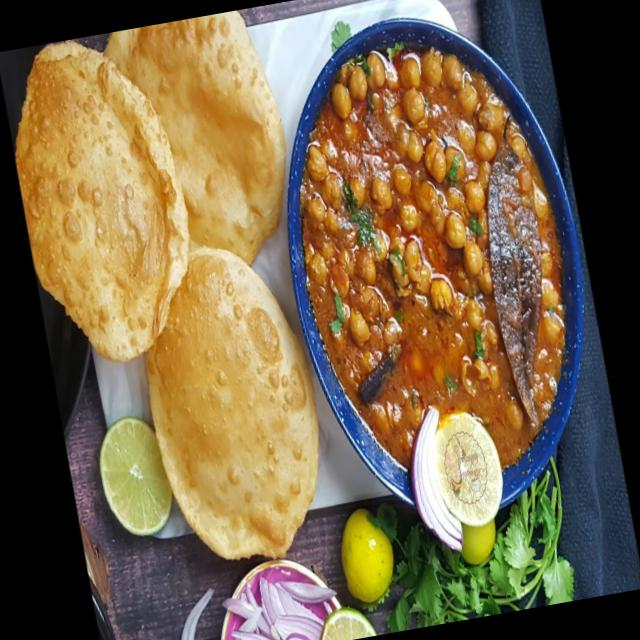Bhatura: (124, 230, 340, 576), (0, 26, 209, 371), (100, 6, 306, 286)
Chole: (278, 39, 579, 468)
